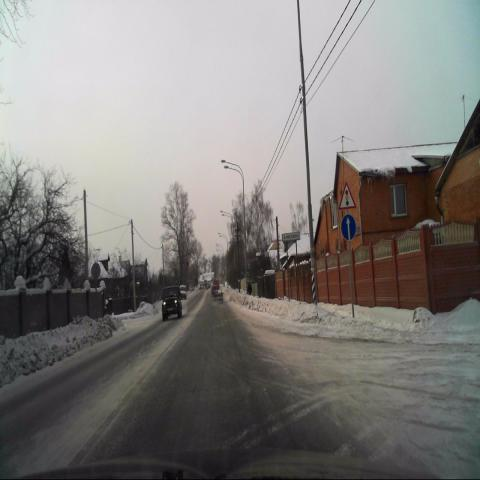1_8: (338, 181, 356, 210)
